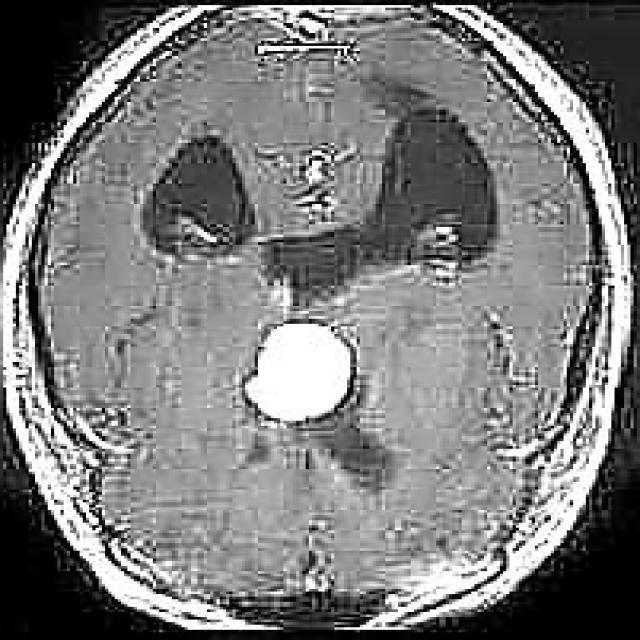tumor: (242, 316, 360, 426)
